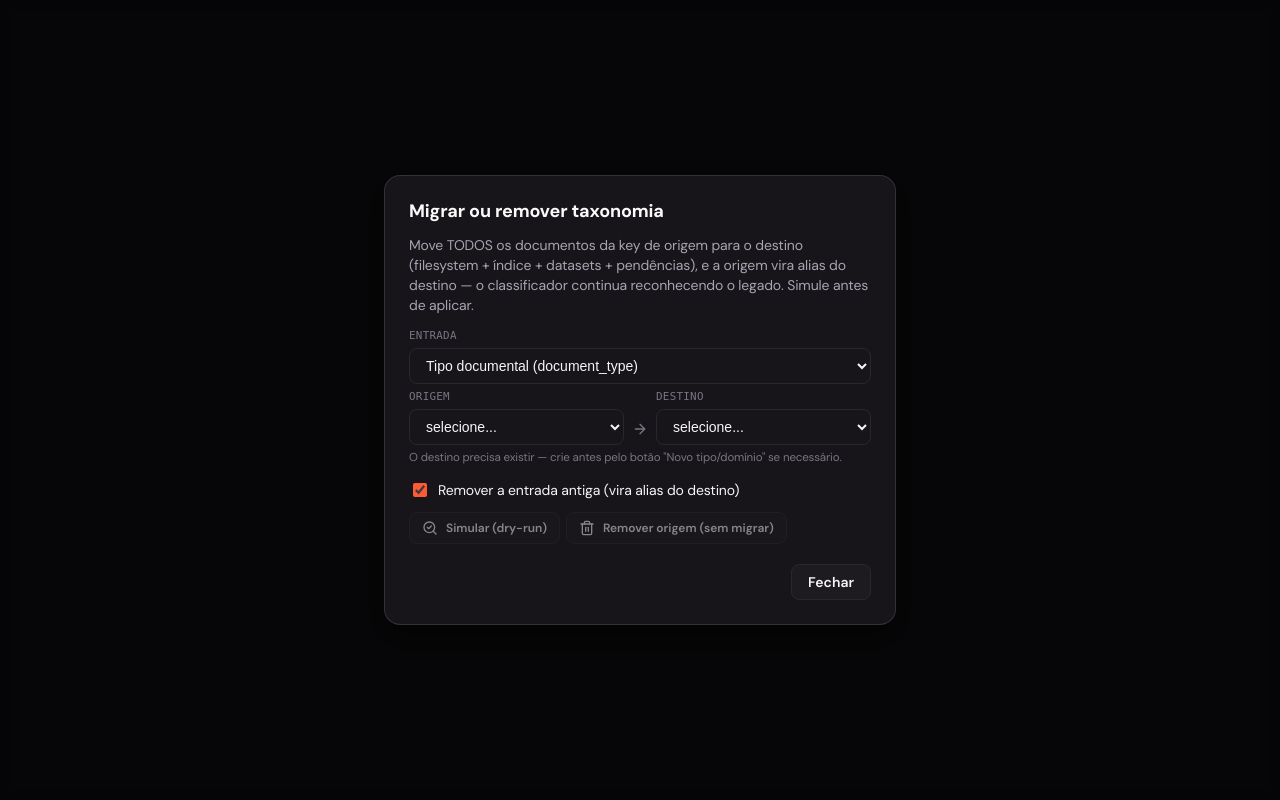
TaxonomyMigrateModal › simula (dry-run) e mostra o preview com contagens e avisos
Select "parecer" in the dropdown labelled "Origem" at (516, 427), box 409,409 -> 624,445
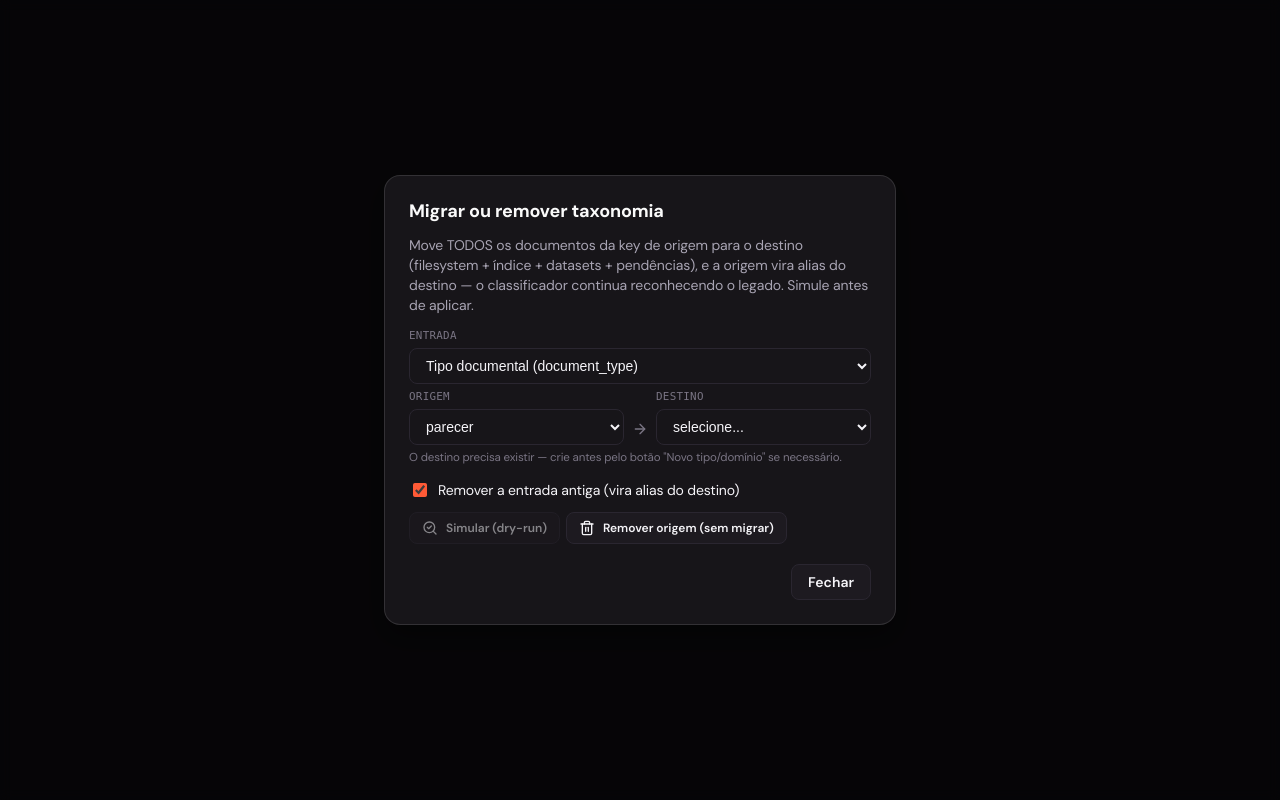
Select "contrato" in the dropdown labelled "Destino" at (764, 427), box 656,409 -> 871,445
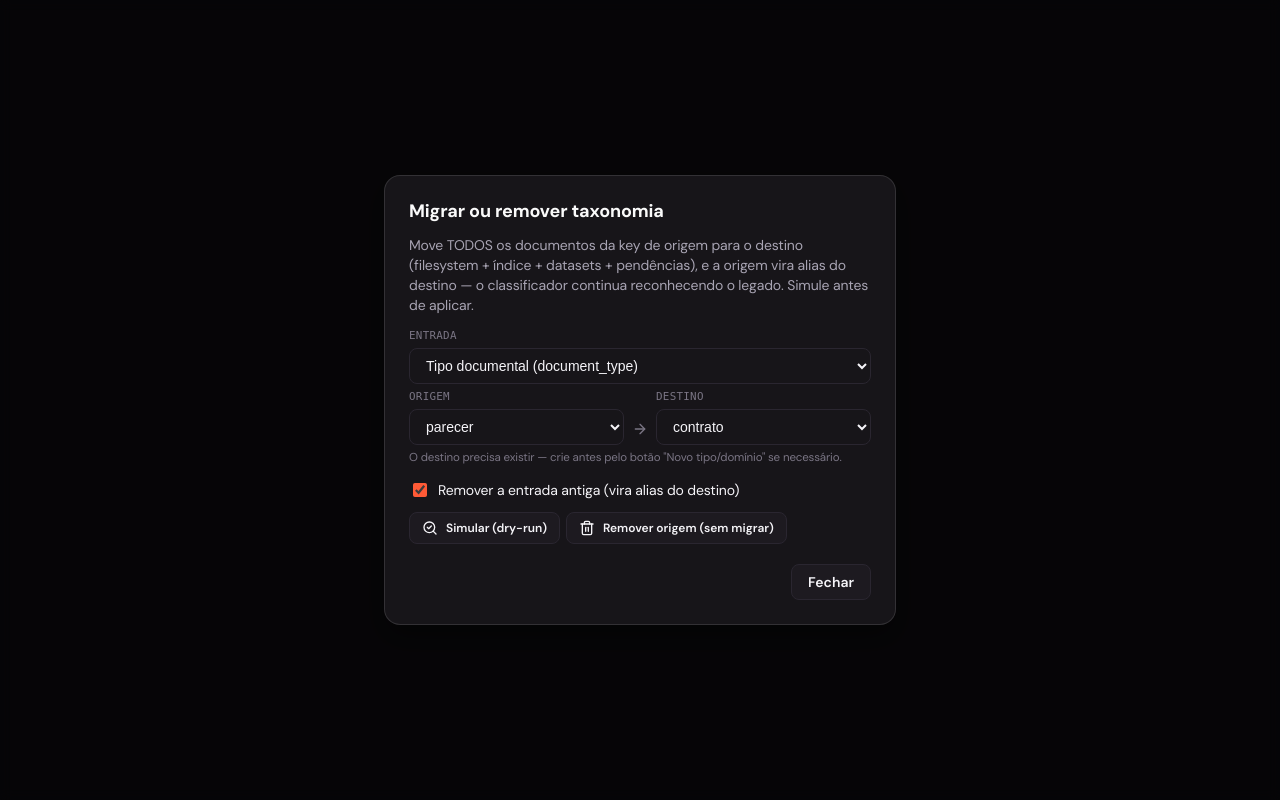
Click the button "Simular (dry-run)".
click(484, 528)  # box 409,512 -> 560,544
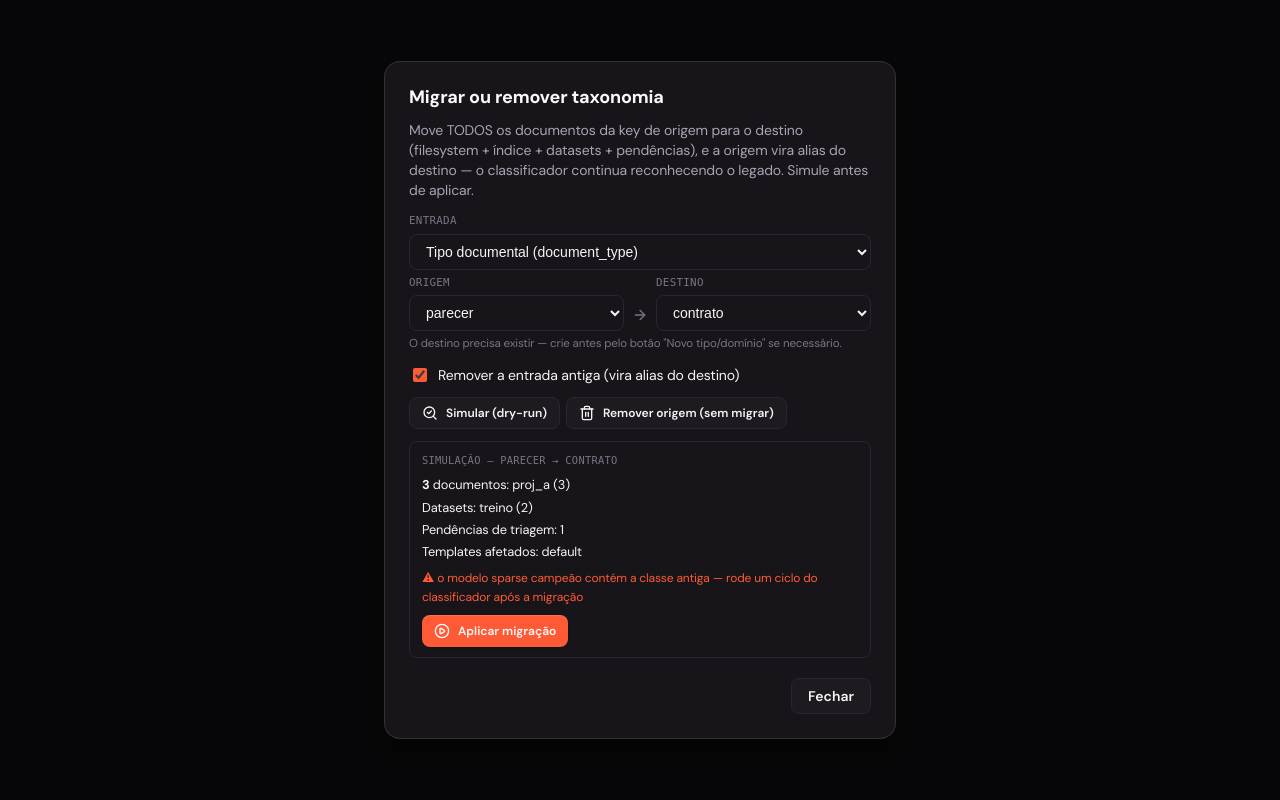
Now the text "Simulação — parecer → contrato" is shown, box 422,454 -> 618,466
Now the list item "3 documentos: proj_a (3)" is shown, box 422,476 -> 570,493
Now the list item "Datasets: treino (2)" is shown, box 422,498 -> 533,516
